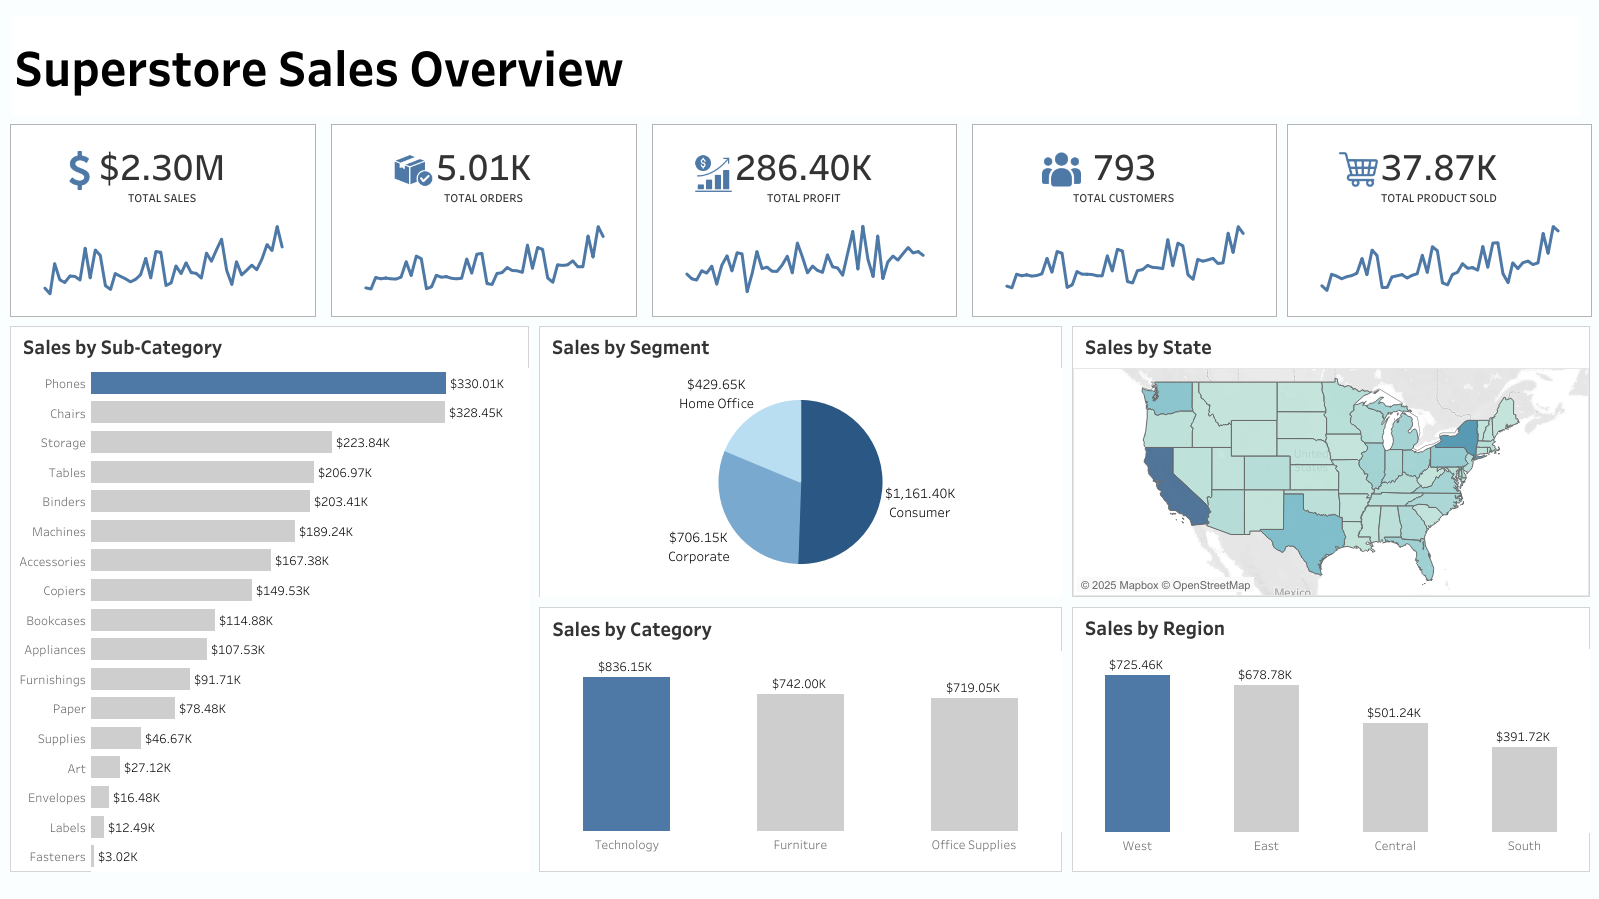

This screenshot's page, from the dashboard's own definition file:
{"tool":"tableau","page":{"name":"Sales Overview","canvas":[1600,900],"ordinal":0},"visuals":[{"type":"blank","box":[0,0,1600,321]},{"type":"text","box":[2,6,1588,120]},{"type":"worksheet","title":"Total Sales","mark":"Automatic","box":[11,125,304,96]},{"type":"worksheet","title":"Total Orders","mark":"Automatic","box":[332,125,304,96]},{"type":"worksheet","title":"Total Profit","mark":"Automatic","box":[653,125,303,96]},{"type":"worksheet","title":"Total Customers","mark":"Automatic","box":[973,125,303,96]},{"type":"worksheet","title":"Total Product Sold","mark":"Automatic","box":[1288,125,303,96]},{"type":"image","param":"C:/Users/muham/Downloads/customer.png","box":[1042,150,39,39]},{"type":"image","param":"C:/Users/muham/Downloads/shopping-cart.png","box":[1339,150,39,39]},{"type":"image","param":"C:/Users/muham/Downloads/dollar-symbol.png","box":[60,151,39,39]},{"type":"image","param":"C:/Users/muham/Downloads/booking.png","box":[394,151,39,39]},{"type":"image","param":"C:/Users/muham/Downloads/profit.png","box":[694,154,39,39]},{"type":"worksheet","title":"Monthly Sales","mark":"Automatic","rows":["Sales"],"cols":["Order Date"],"box":[11,221,304,95]},{"type":"worksheet","title":"Monthly Orders","mark":"Automatic","rows":["Order ID"],"cols":["Order Date"],"box":[332,221,304,95]},{"type":"worksheet","title":"Monthly Profit","mark":"Automatic","rows":["Profit"],"cols":["Order Date"],"box":[653,221,303,95]},{"type":"worksheet","title":"Monthly Customer","mark":"Automatic","rows":["Customer ID"],"cols":["Order Date"],"box":[973,221,303,95]},{"type":"worksheet","title":"Monthly Products Sold","mark":"Automatic","rows":["Quantity"],"cols":["Order Date"],"box":[1288,221,303,95]},{"type":"worksheet","title":"Sales by Sub-Category","mark":"Automatic","rows":["Sub-Category"],"cols":["Sales"],"box":[0,321,534,561]},{"type":"worksheet","title":"Sales by Segment","mark":"Pie","box":[534,321,533,281]},{"type":"worksheet","title":"Sales by State","mark":"Automatic","box":[1067,321,533,281]},{"type":"worksheet","title":"Sales by Category","mark":"Automatic","rows":["Sales"],"cols":["Category"],"box":[534,602,533,280]},{"type":"worksheet","title":"Sales by Region","mark":"Automatic","rows":["Sales"],"cols":["Region"],"box":[1067,602,533,280]}]}

Visuals, with their boxes in screenshot pixels (x1, y1, x2, y2), scaled from the page's 1600x900 canvas onto the 1599x899 screenshot:
blank: l=0, t=0, r=1598, b=321
text: l=2, t=6, r=1589, b=126
"Total Sales" worksheet: l=11, t=125, r=315, b=221
"Total Orders" worksheet: l=332, t=125, r=636, b=221
"Total Profit" worksheet: l=653, t=125, r=955, b=221
"Total Customers" worksheet: l=972, t=125, r=1275, b=221
"Total Product Sold" worksheet: l=1287, t=125, r=1590, b=221
image: l=1041, t=150, r=1080, b=189
image: l=1338, t=150, r=1377, b=189
image: l=60, t=151, r=99, b=190
image: l=394, t=151, r=433, b=190
image: l=694, t=154, r=733, b=193
"Monthly Sales" worksheet: l=11, t=221, r=315, b=316
"Monthly Orders" worksheet: l=332, t=221, r=636, b=316
"Monthly Profit" worksheet: l=653, t=221, r=955, b=316
"Monthly Customer" worksheet: l=972, t=221, r=1275, b=316
"Monthly Products Sold" worksheet: l=1287, t=221, r=1590, b=316
"Sales by Sub-Category" worksheet: l=0, t=321, r=534, b=881
"Sales by Segment" worksheet (Pie marks): l=534, t=321, r=1066, b=601
"Sales by State" worksheet: l=1066, t=321, r=1598, b=601
"Sales by Category" worksheet: l=534, t=601, r=1066, b=881
"Sales by Region" worksheet: l=1066, t=601, r=1598, b=881
